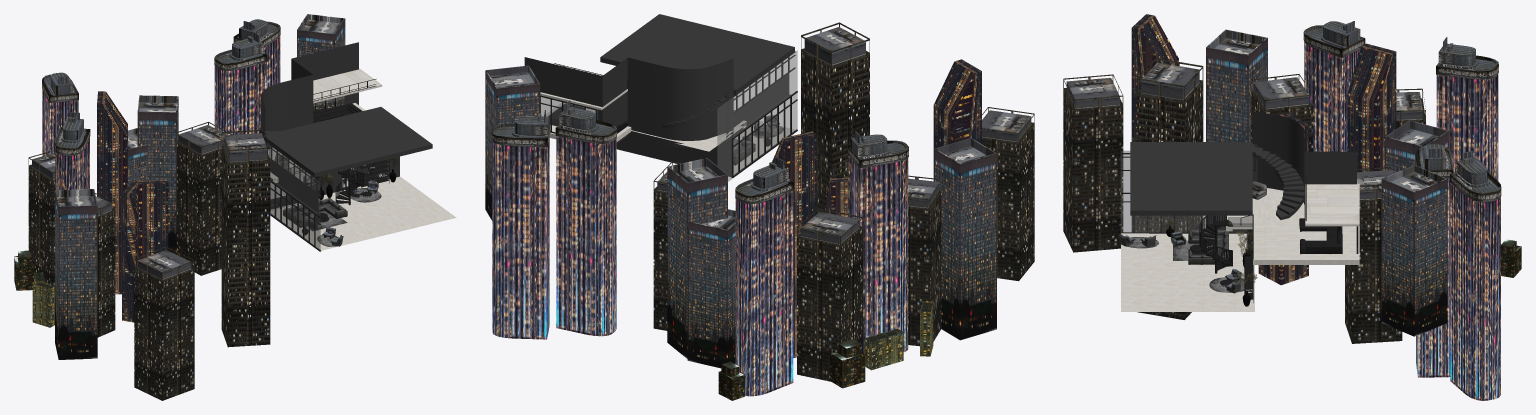
Rendered from Loft.glb.
3 renders of one model, left to right at view 1: azimuth 30°, elevation 25°; view 2: azimuth 150°, elevation 25°; view 3: azimuth 270°, elevation 25°, orthographic. The views are drawn at different scales.
Parts seen in each view (by area): view 1: Cube.047, Cube.040, Cube.042, Cube.008, Cube.062, Plane, Cube.055, Plane.007, Cube.060, Cube.054, Plane.026, Cube.052 (+19 smaller); view 2: Cube.055, Cube.043, Cube.061, Plane.007, Cube.042, Cube.041, Cube.052, Cube.047, Cube.048, Cube.008, Cube.040, Cube.060 (+18 smaller); view 3: Cube.061, Cube.058, Cube.040, Cube.008, Plane, Cube.043, Cube.047, Cube.042, Cube.041, Cube.062, Cube.054, Plane.007 (+15 smaller).
Part boxes in pixels (bbox=[...]): Cube.047: bbox=[221, 129, 270, 347]; Cube.040: bbox=[134, 247, 194, 400]; Cube.042: bbox=[55, 189, 97, 359]; Cube.008: bbox=[263, 107, 432, 177]; Cube.062: bbox=[177, 122, 232, 275]; Plane: bbox=[270, 176, 456, 250]; Cube.055: bbox=[214, 31, 267, 135]; Plane.007: bbox=[261, 42, 358, 149]; Cube.060: bbox=[137, 95, 178, 254]; Cube.054: bbox=[97, 91, 127, 294]; Plane.026: bbox=[251, 131, 320, 251]; Cube.052: bbox=[28, 150, 55, 285]; Cube.055: bbox=[555, 100, 616, 336]; Cube.043: bbox=[735, 157, 793, 396]; Cube.061: bbox=[491, 110, 550, 339]; Plane.007: bbox=[524, 57, 733, 147]; Cube.042: bbox=[934, 138, 996, 340]; Cube.041: bbox=[848, 131, 908, 353]; Cube.052: bbox=[797, 208, 862, 381]; Cube.047: bbox=[801, 22, 869, 213]; Cube.048: bbox=[687, 209, 735, 368]; Cube.008: bbox=[600, 14, 794, 94]; Cube.040: bbox=[982, 107, 1034, 281]; Cube.060: bbox=[667, 158, 727, 358]; Cube.061: bbox=[1450, 151, 1501, 400]; Cube.058: bbox=[1381, 165, 1447, 336]; Cube.040: bbox=[1063, 74, 1123, 252]; Cube.008: bbox=[1130, 142, 1252, 215]; Plane: bbox=[1121, 233, 1254, 311]; Cube.043: bbox=[1436, 37, 1498, 180]; Cube.047: bbox=[1137, 58, 1203, 319]; Cube.042: bbox=[1206, 29, 1267, 232]; Cube.041: bbox=[1303, 21, 1365, 151]; Cube.062: bbox=[1345, 167, 1402, 343]; Cube.054: bbox=[1347, 43, 1396, 171]; Plane.007: bbox=[1252, 111, 1356, 217].
Bounding box in the file's own units: 37.19 × 19.26 × 33.93.
Materials: 26 (19 with a texture image).
